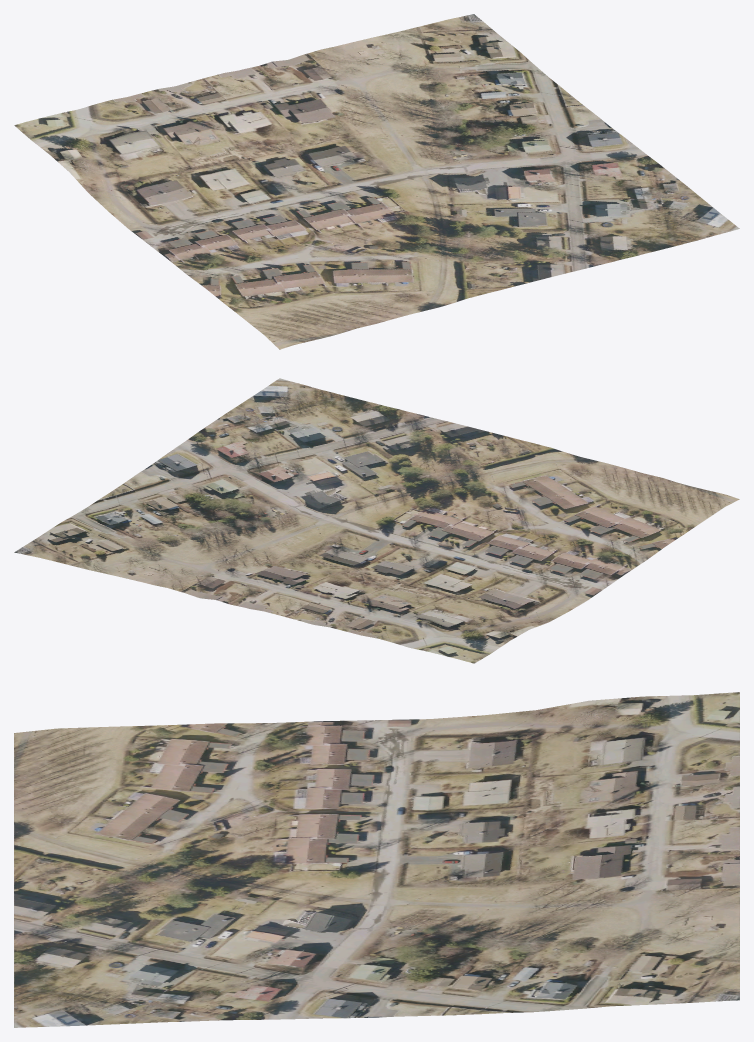
The model's file is CM_Terrain_24491073_6819384.fbx.
3 views of the same model, one above another, from view 1: azimuth 30°, elevation 25°; view 2: azimuth 150°, elevation 25°; view 3: azimuth 270°, elevation 25° (orthographic). The views are drawn at different scales.
Parts seen in each view (by area): view 1: CM_Terrain_24491073_6819384_LOD0; view 2: CM_Terrain_24491073_6819384_LOD0; view 3: CM_Terrain_24491073_6819384_LOD0.
Part boxes in pixels (x1,y1,x2,y2): CM_Terrain_24491073_6819384_LOD0: (14, 14, 739, 349); CM_Terrain_24491073_6819384_LOD0: (14, 378, 739, 663); CM_Terrain_24491073_6819384_LOD0: (14, 692, 739, 1027).
Size of what is drawn, in the model's own units: 205 by 13.45 by 205.
